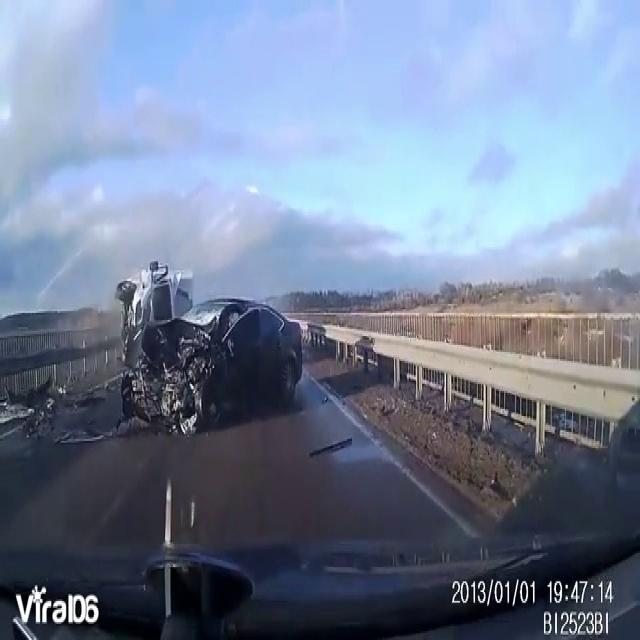accident: (115, 254, 308, 439)
